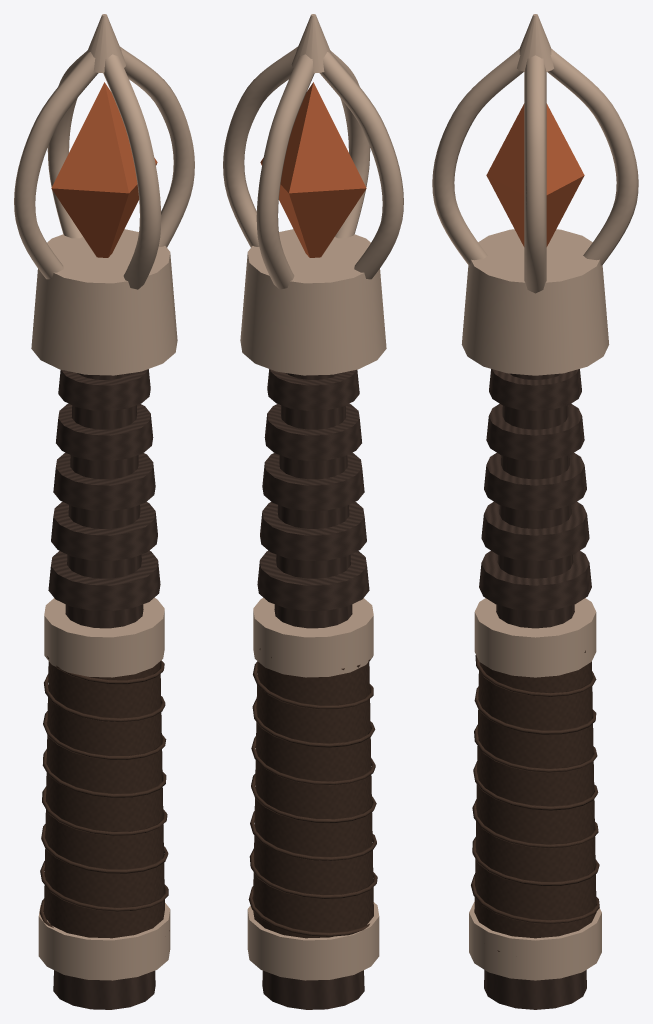
Rendered from corealm_wand_4.glb.
3 renders of one model, left to right at view 1: azimuth 30°, elevation 25°; view 2: azimuth 150°, elevation 25°; view 3: azimuth 270°, elevation 25°, orthographic.
Parts seen in each view (by area): view 1: corealm-weapon-metal, corealm-weapon-leather, corealm-weapon-wood, corealm-weapon-gem; view 2: corealm-weapon-metal, corealm-weapon-leather, corealm-weapon-wood, corealm-weapon-gem; view 3: corealm-weapon-metal, corealm-weapon-leather, corealm-weapon-wood, corealm-weapon-gem.
Part boxes in pixels (x1,y1,x2,y2): corealm-weapon-metal: (14, 14, 194, 980); corealm-weapon-leather: (39, 656, 169, 938); corealm-weapon-wood: (48, 369, 160, 1009); corealm-weapon-gem: (51, 82, 157, 257); corealm-weapon-metal: (223, 14, 403, 980); corealm-weapon-leather: (248, 648, 377, 938); corealm-weapon-wood: (257, 369, 369, 1009); corealm-weapon-gem: (260, 82, 366, 257); corealm-weapon-metal: (432, 14, 638, 980); corealm-weapon-leather: (471, 650, 599, 951); corealm-weapon-wood: (479, 369, 591, 1009); corealm-weapon-gem: (486, 103, 584, 246).
Bounding box in the file's own units: 0.084 × 0.437 × 0.084.
4 materials, 2 textured.
